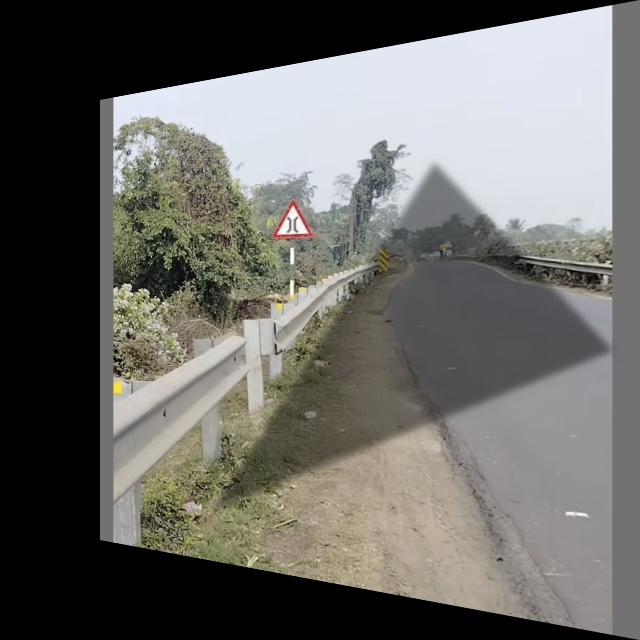Narrow_Bridge: (273, 197, 315, 242)
